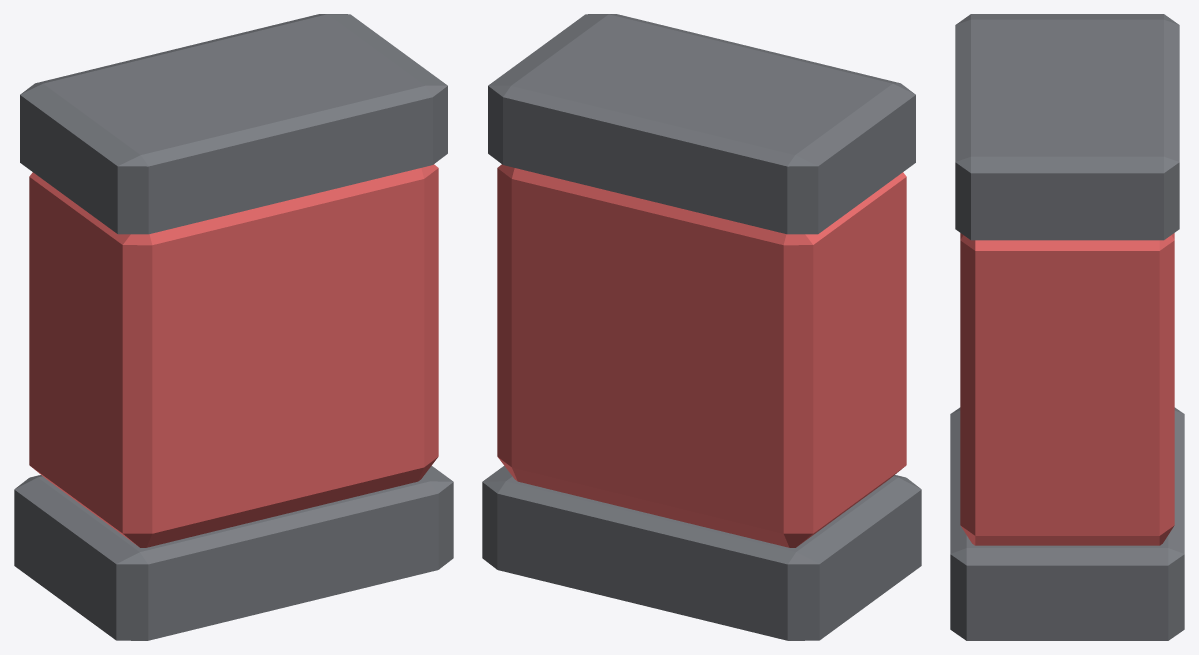
Rendered from b05_siamese_fire_department_connection.glb.
The picture shows the model from 3 angles, left to right: view 1: azimuth 30°, elevation 25°; view 2: azimuth 150°, elevation 25°; view 3: azimuth 270°, elevation 25°; orthographic projection.
Visible parts, largest first — view 1: b05_siamese_fire_department_connection; view 2: b05_siamese_fire_department_connection; view 3: b05_siamese_fire_department_connection.
Boxes of the visible parts, box(x1,y1,x2,y2) form: b05_siamese_fire_department_connection: box(14, 14, 453, 640); b05_siamese_fire_department_connection: box(482, 14, 921, 640); b05_siamese_fire_department_connection: box(950, 14, 1184, 640).
Size of the model in its own units: 0.624 by 0.854 by 0.38.
